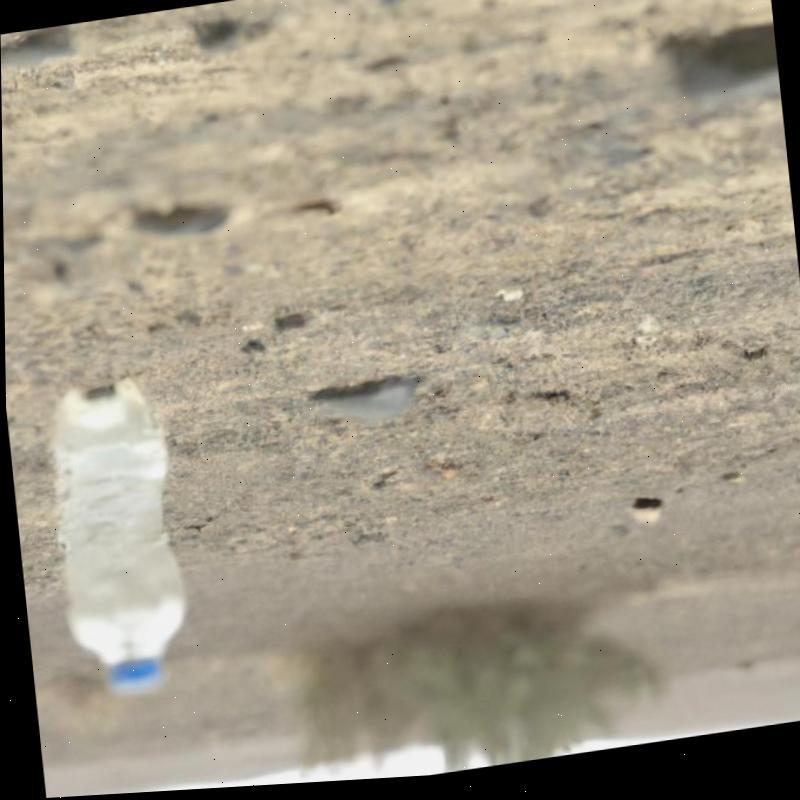botella: (34, 373, 196, 703)
